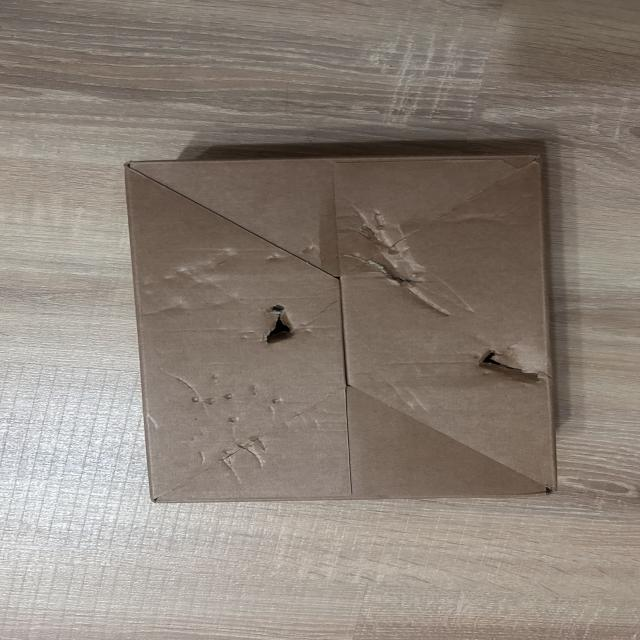damaged: (110, 150, 576, 510), (164, 375, 310, 491), (347, 205, 457, 324), (468, 335, 550, 398), (246, 297, 318, 352)
